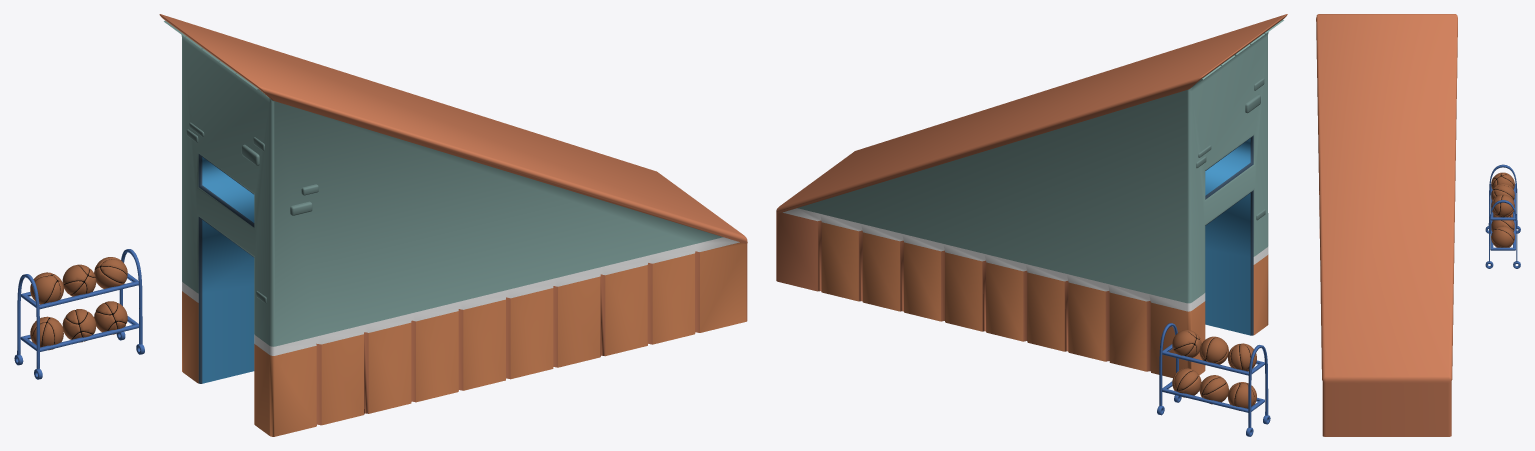
Rendered from entrance.fbx.
3 renders of one model, left to right at view 1: azimuth 30°, elevation 25°; view 2: azimuth 150°, elevation 25°; view 3: azimuth 270°, elevation 25°, orthographic. The views are drawn at different scales.
Parts seen in each view (by area): view 1: entrance, ball_holder.001, basketball, basketball.001, basketball.003, basketball.004, basketball.002, basketball.005; view 2: entrance, ball_holder.001, basketball, basketball.001, basketball.003, basketball.004, basketball.002, basketball.005; view 3: entrance, ball_holder.001, basketball.004, basketball.001, basketball.002, basketball.
Part boxes in pixels (x1,y1,x2,y2): entrance: (159, 14, 747, 436); ball_holder.001: (14, 249, 144, 379); basketball: (62, 264, 96, 296); basketball.001: (94, 257, 127, 288); basketball.003: (62, 309, 96, 342); basketball.004: (94, 301, 127, 334); basketball.002: (30, 272, 63, 304); basketball.005: (30, 316, 63, 350); entrance: (776, 14, 1287, 377); ball_holder.001: (1157, 323, 1270, 436); basketball: (1199, 336, 1228, 364); basketball.001: (1172, 330, 1201, 357); basketball.003: (1199, 375, 1228, 404); basketball.004: (1172, 368, 1201, 397); basketball.002: (1227, 343, 1256, 371); basketball.005: (1227, 382, 1256, 410); entrance: (1316, 14, 1457, 436); ball_holder.001: (1485, 164, 1520, 268); basketball.004: (1491, 225, 1514, 247); basketball.001: (1491, 194, 1514, 217); basketball.002: (1491, 172, 1514, 189); basketball: (1491, 183, 1514, 200).
Bounding box in the file's own units: 27.98 × 16.13 × 11.84.
